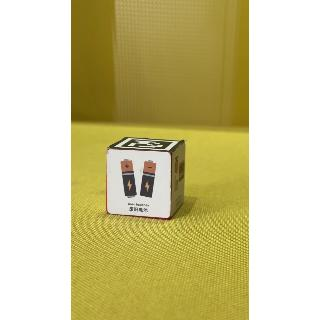Used_Battery: (106, 148, 174, 222)
